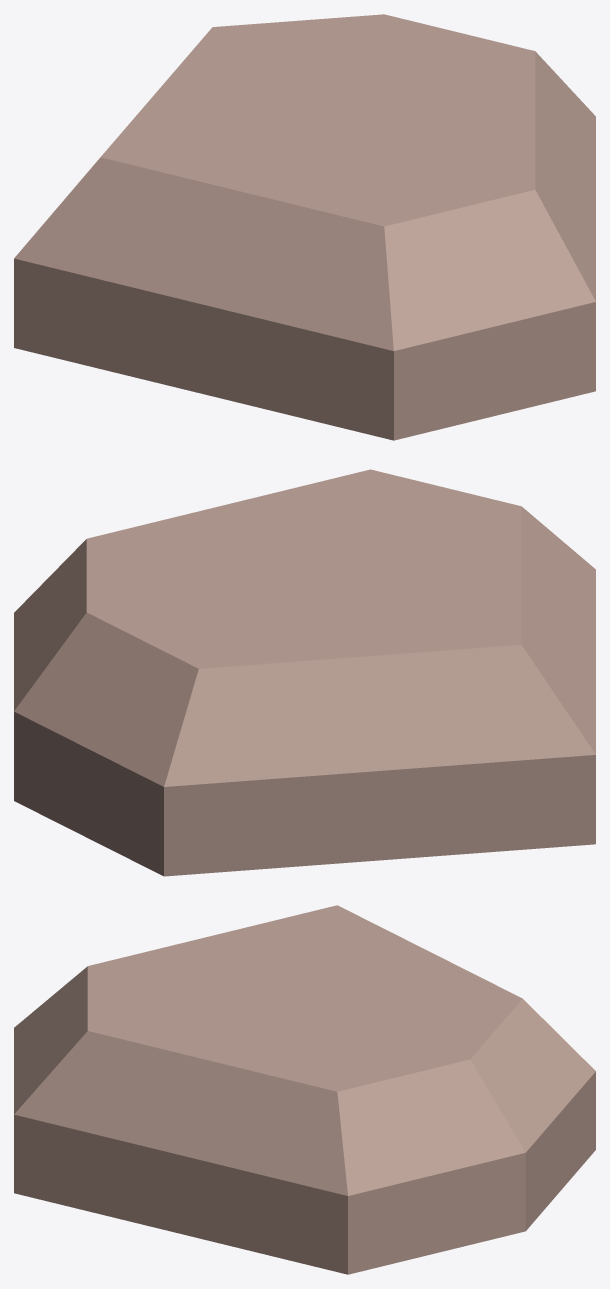
The model's file is rock-type4-04-orange.glb.
3 renders of one model, top to bottom at view 1: azimuth 30°, elevation 25°; view 2: azimuth 150°, elevation 25°; view 3: azimuth 270°, elevation 25°, orthographic. The views are drawn at different scales.
Visible parts, largest first — view 1: Rock_Type4_04_mesh; view 2: Rock_Type4_04_mesh; view 3: Rock_Type4_04_mesh.
Part boxes in pixels (bbox=[...]): Rock_Type4_04_mesh: bbox=[14, 14, 595, 440]; Rock_Type4_04_mesh: bbox=[14, 469, 595, 876]; Rock_Type4_04_mesh: bbox=[14, 905, 595, 1274].
Bounding box in the file's own units: 1.18 × 0.3414 × 1.17.
1 material, 1 textured.
